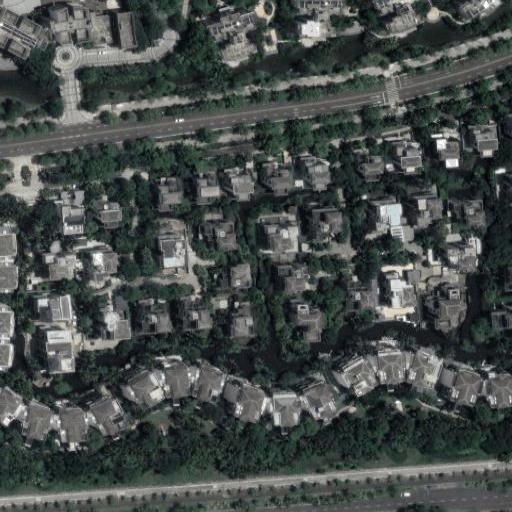building: (0, 5, 50, 61), (207, 12, 258, 66), (294, 0, 346, 45), (50, 5, 95, 46), (378, 275, 418, 320), (373, 0, 420, 38), (76, 392, 116, 436), (115, 362, 154, 405), (328, 352, 366, 393), (176, 357, 212, 399), (291, 379, 328, 419), (406, 342, 442, 383), (223, 381, 257, 420), (8, 396, 40, 436), (47, 330, 77, 372), (472, 363, 508, 398), (435, 289, 464, 330), (440, 359, 473, 395), (160, 236, 192, 272), (42, 405, 73, 441), (364, 345, 394, 380), (459, 0, 503, 22), (149, 358, 177, 392), (258, 391, 288, 421), (472, 126, 501, 157), (298, 305, 322, 340), (315, 212, 342, 243), (145, 302, 171, 334), (161, 178, 185, 212), (266, 227, 298, 252), (437, 136, 462, 168), (37, 299, 73, 321), (103, 313, 132, 340), (184, 301, 211, 330), (228, 172, 254, 201), (279, 267, 310, 291), (47, 254, 74, 281), (268, 169, 296, 195), (396, 147, 424, 173), (233, 305, 255, 338), (221, 266, 251, 290), (307, 163, 331, 192), (457, 203, 486, 227), (348, 281, 371, 311), (62, 206, 85, 235), (206, 228, 235, 251), (447, 248, 477, 270), (376, 204, 402, 229), (419, 200, 443, 226), (197, 176, 219, 204), (95, 253, 115, 282), (363, 157, 386, 181), (118, 13, 134, 47), (104, 203, 121, 228), (498, 256, 512, 286), (0, 233, 16, 258), (0, 265, 16, 290), (0, 340, 11, 370), (0, 310, 12, 337), (492, 313, 512, 329), (392, 229, 414, 241), (371, 276, 378, 307), (407, 271, 422, 284), (215, 299, 230, 309), (429, 247, 434, 263), (410, 315, 419, 321), (421, 322, 426, 328)
